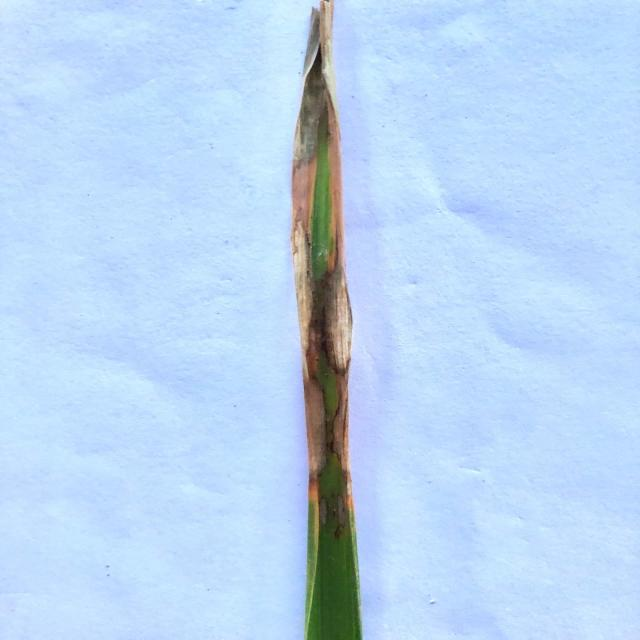Leaf Blight: (292, 0, 352, 552)
